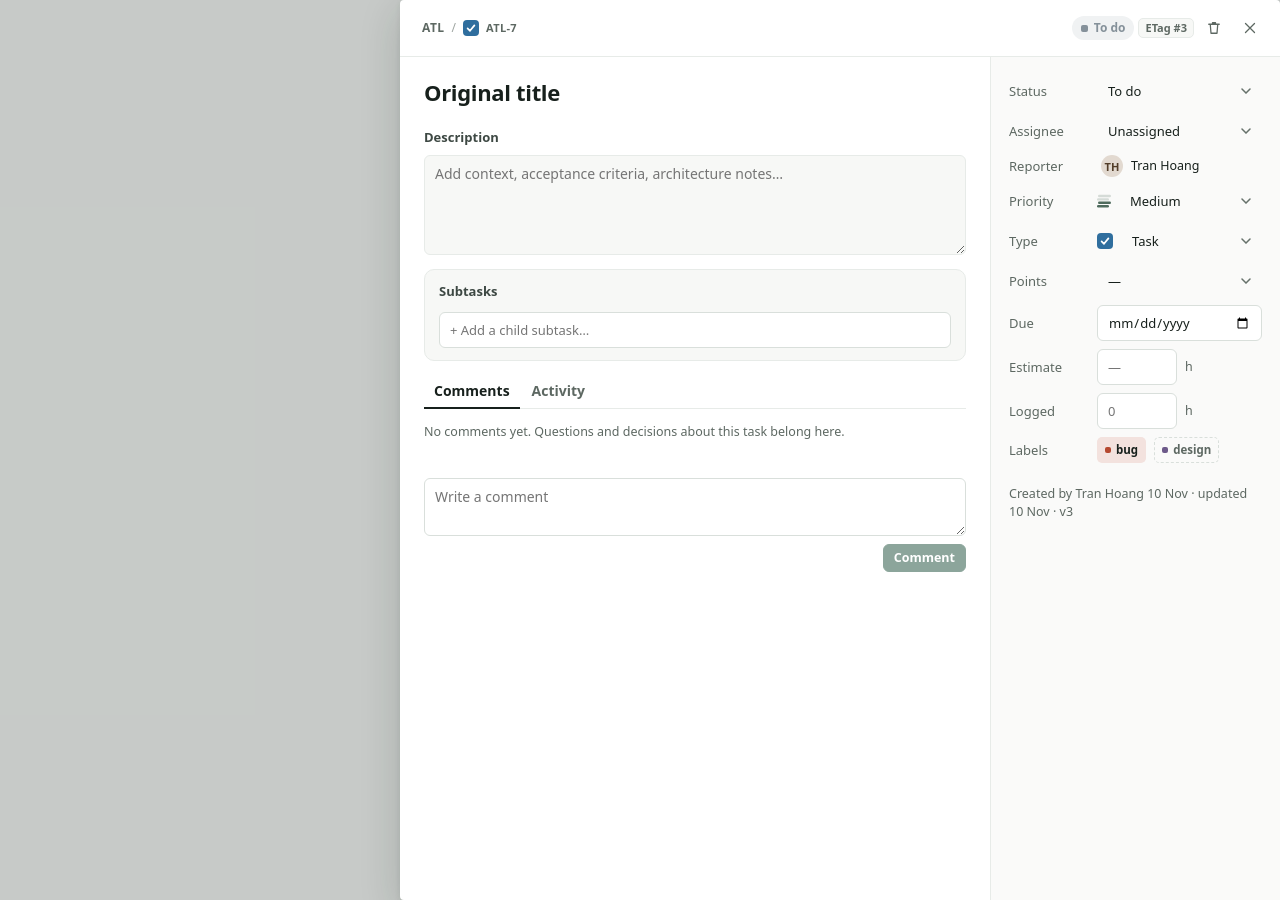
Test: TaskDrawer › on a 409 shows the other person’s version and can re-apply my change on top
Select "In review" in the dropdown named "Status" at (1180, 91), box [1097, 75, 1262, 107]
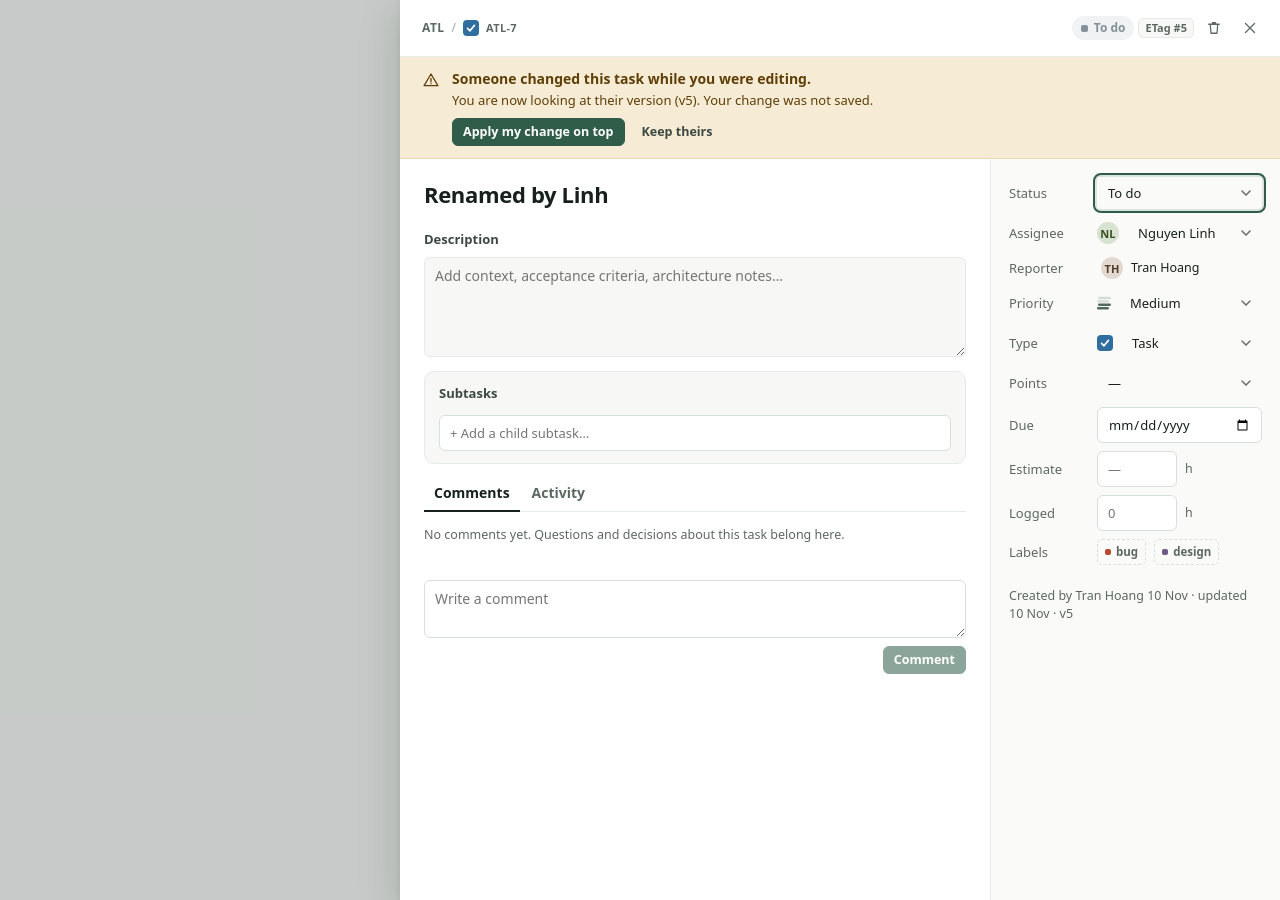
expect the text "Someone changed this task while you were editing." is shown: met, box [452, 69, 811, 88]
expect the text box named "Title" holds "Renamed by Linh": met, box [424, 179, 966, 211]
Click the button "Apply my change on top" at (538, 132), box [452, 118, 624, 146]
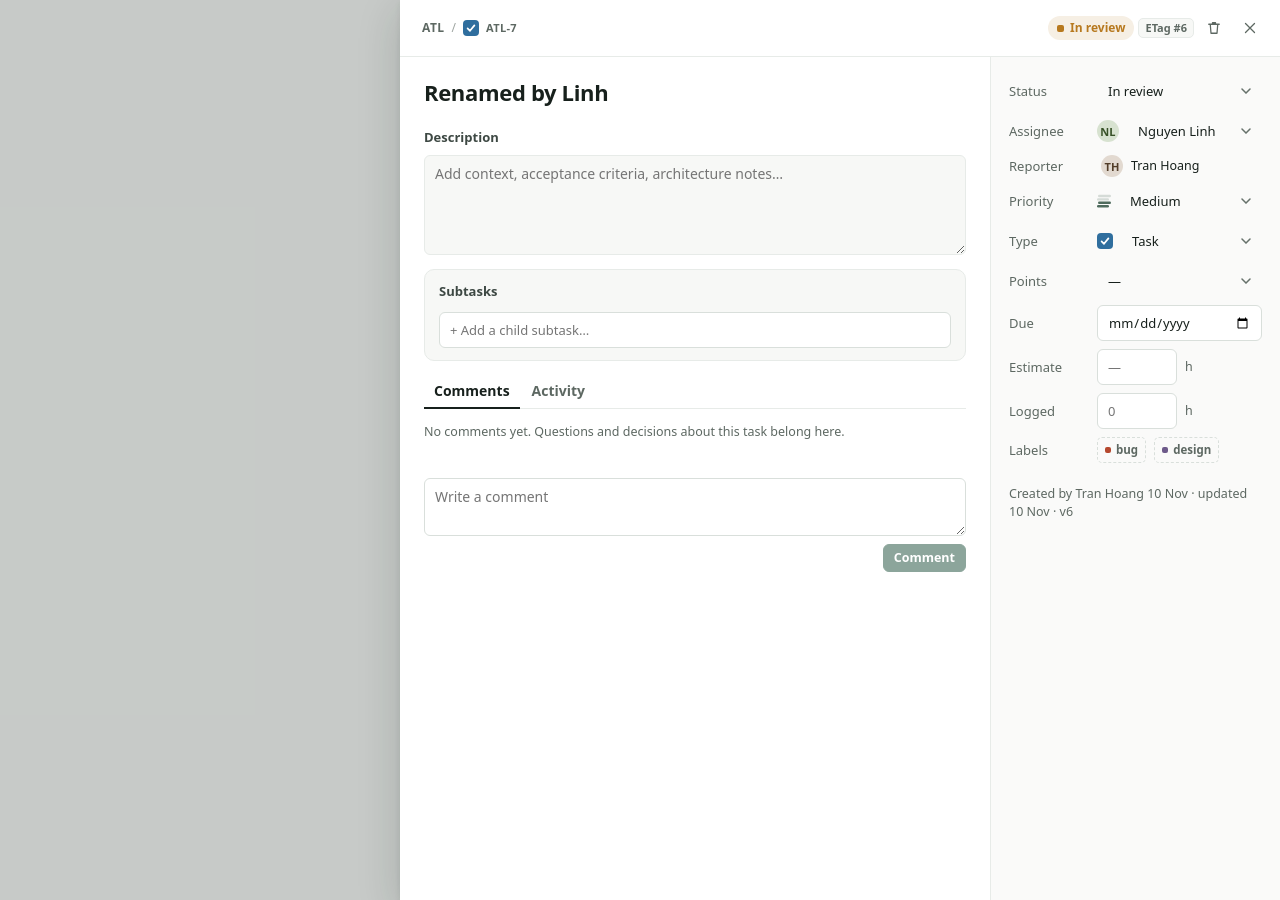
expect the text "Someone changed this task while you were editing." is gone: met
